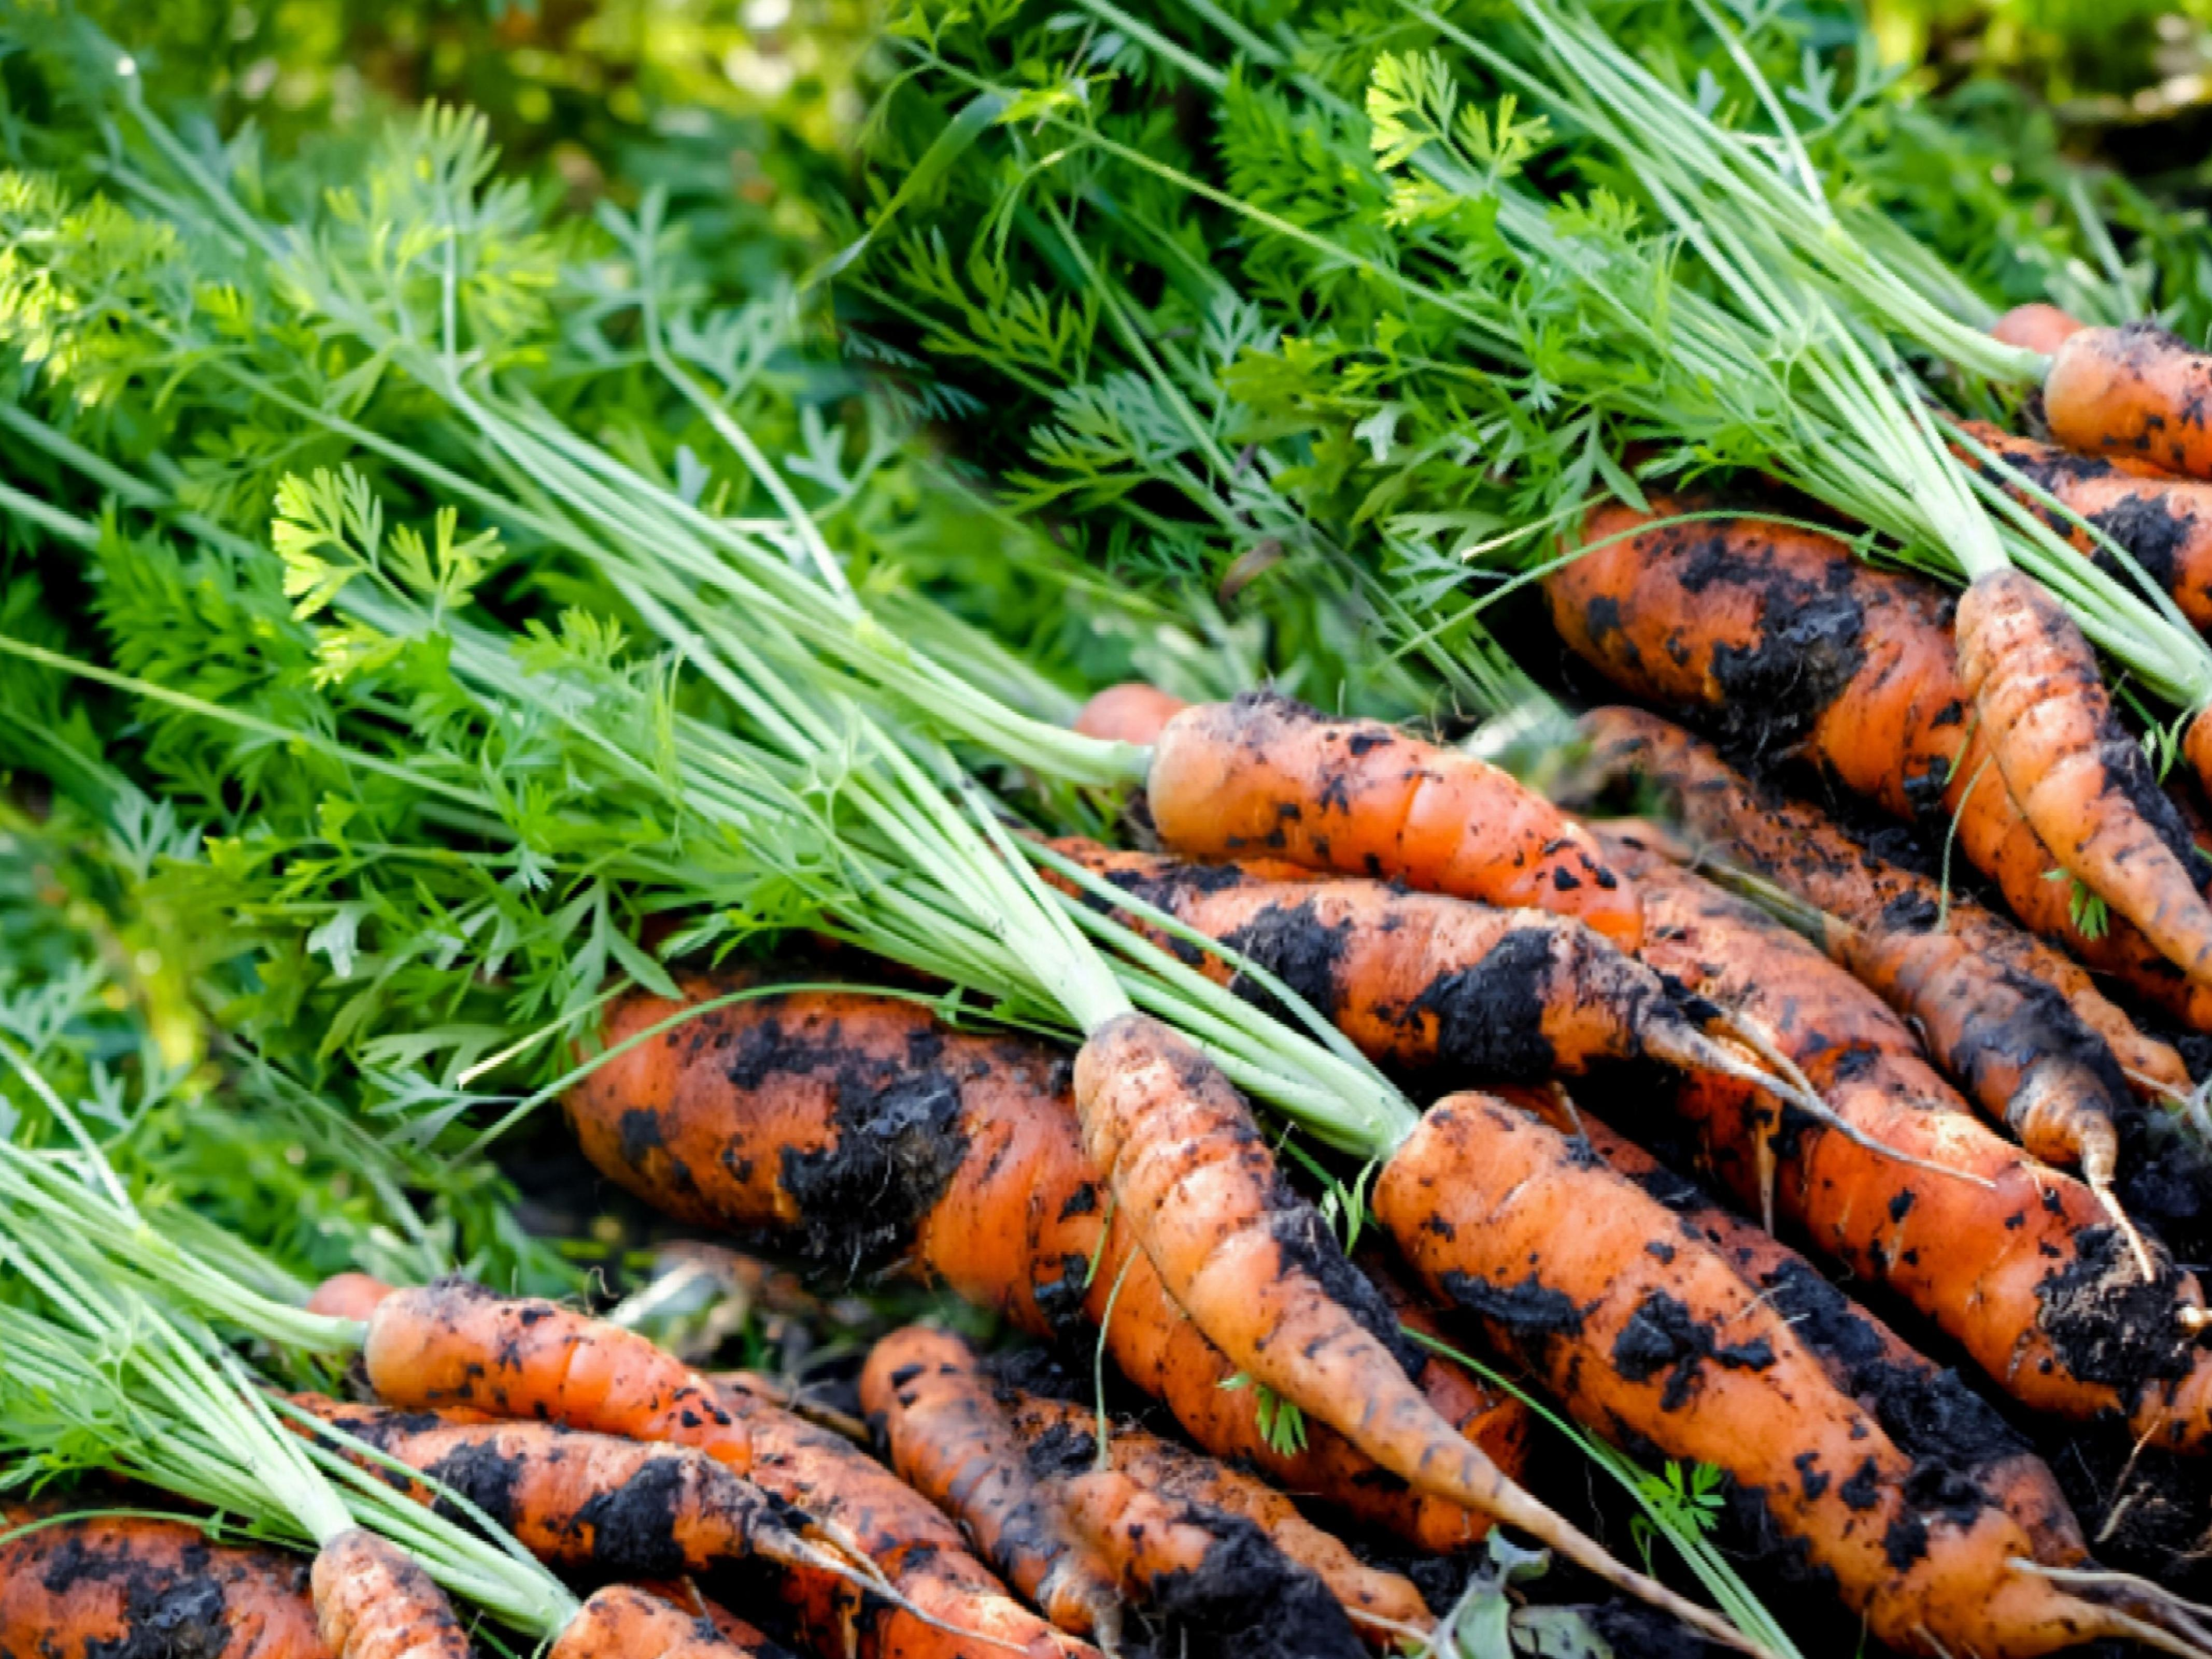carrot: (1066, 457, 2212, 1649), (543, 927, 2212, 1617), (0, 1251, 2210, 1659)
